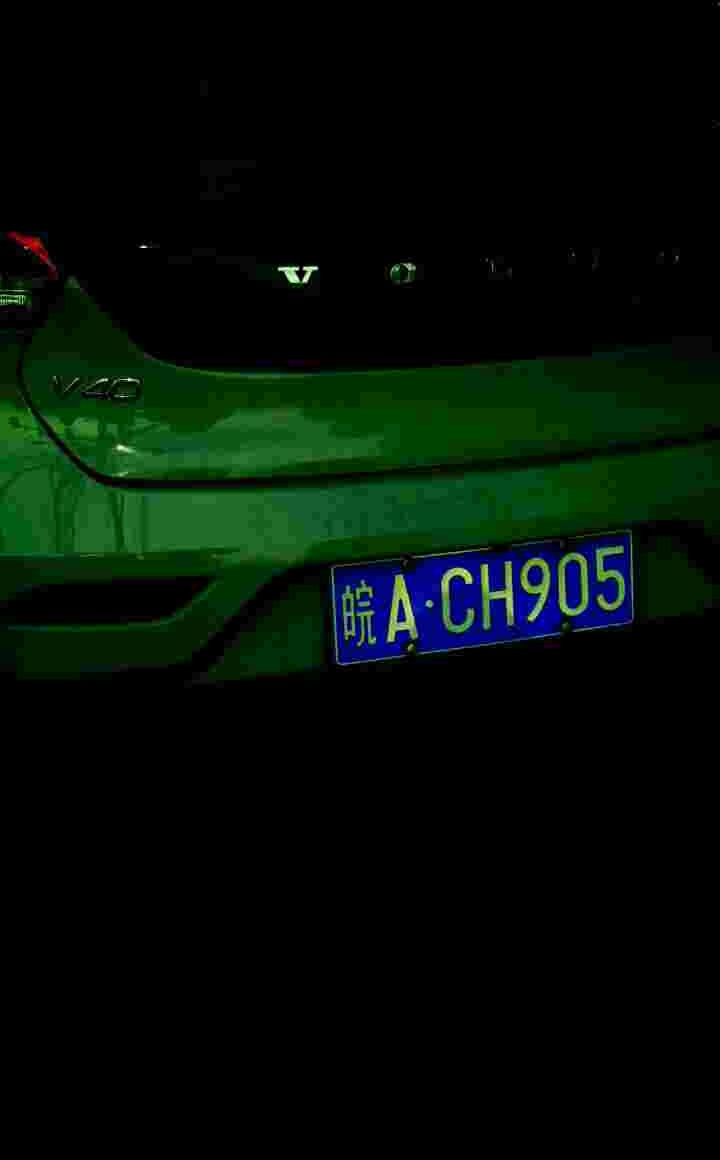license_plate: (324, 532, 641, 671)
